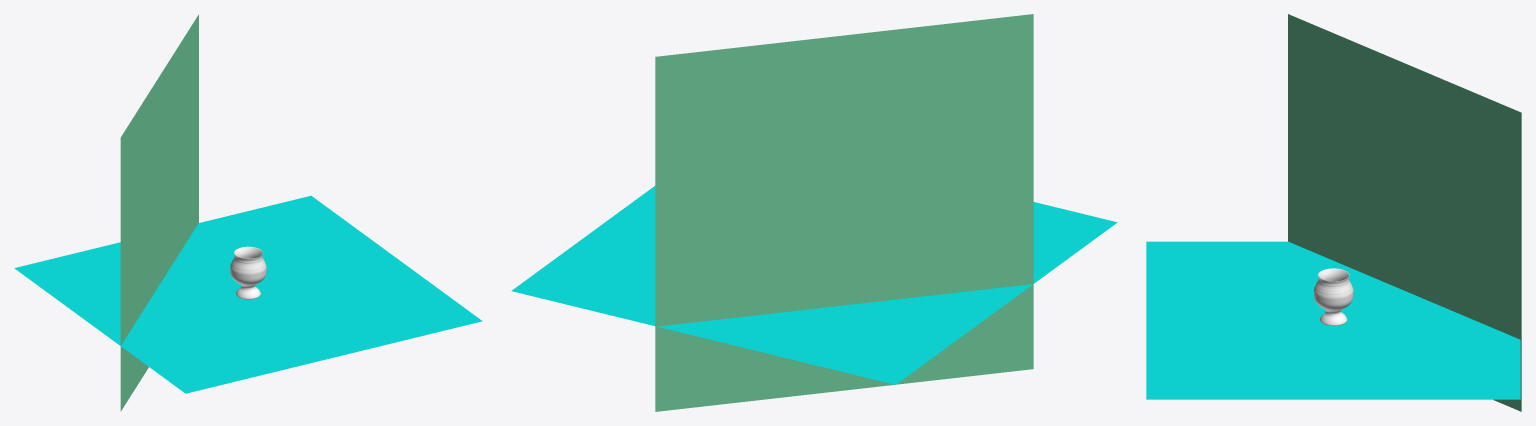
The picture shows the model from 3 angles, left to right: view 1: azimuth 30°, elevation 25°; view 2: azimuth 150°, elevation 25°; view 3: azimuth 270°, elevation 25°; orthographic projection. The views are drawn at different scales.
Parts seen in each view (by area): view 1: Plane, Plane.001, Cylinder; view 2: Plane.001, Plane; view 3: Plane.001, Plane, Cylinder.
Part boxes in pixels (left/top/right/bottom): Plane: left=14, top=195, right=482, bottom=393; Plane.001: left=120, top=14, right=198, bottom=411; Cylinder: left=230, top=246, right=266, bottom=299; Plane.001: left=655, top=14, right=1033, bottom=411; Plane: left=511, top=186, right=1117, bottom=384; Plane.001: left=1288, top=14, right=1521, bottom=411; Plane: left=1146, top=241, right=1520, bottom=399; Cylinder: left=1314, top=268, right=1353, bottom=325.
Bounding box in the file's own units: 18.69 × 16.49 × 18.74.
